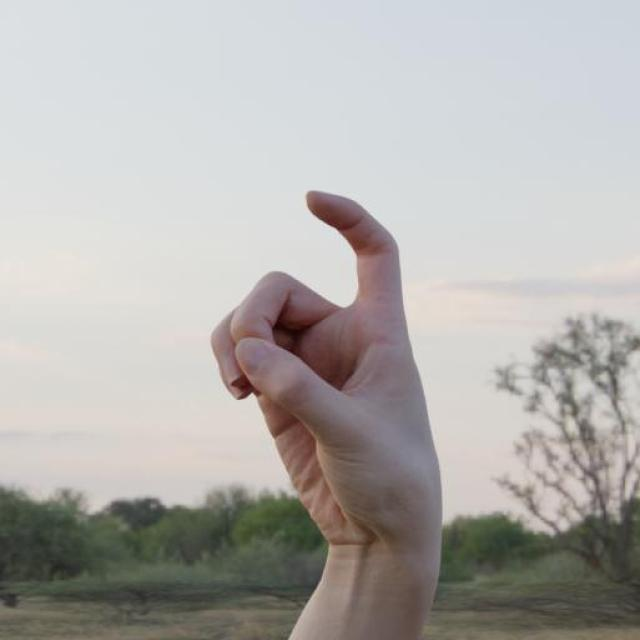X: (205, 184, 449, 552)
